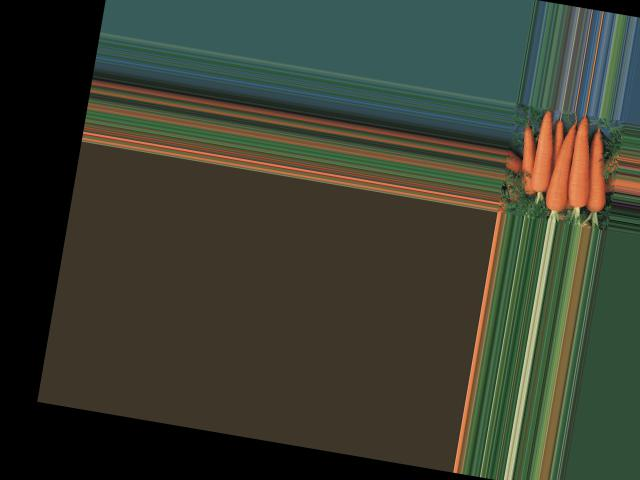carrot: (523, 111, 562, 198)
